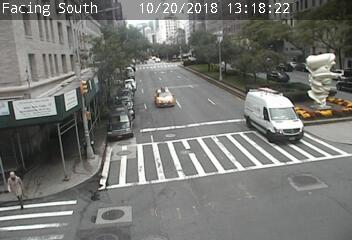car: (245, 90, 304, 143), (154, 88, 174, 107)
